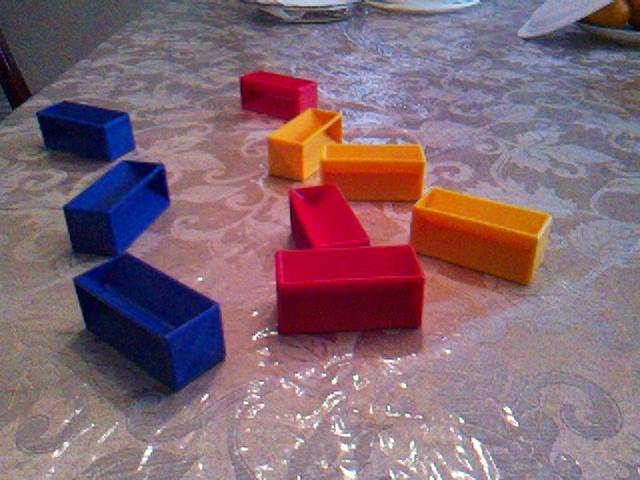blue: (73, 251, 227, 394), (63, 160, 171, 259), (36, 100, 138, 164)
red: (276, 244, 426, 337), (289, 183, 372, 251), (240, 70, 320, 122)
yellow: (409, 187, 553, 287), (320, 143, 428, 203), (268, 108, 344, 183)
